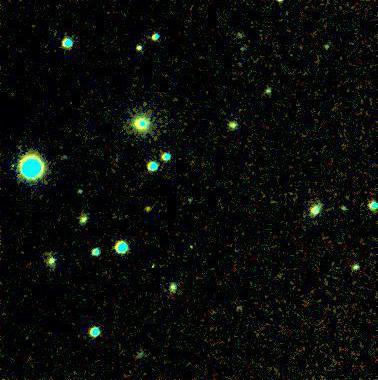star: (132, 193, 162, 223)
